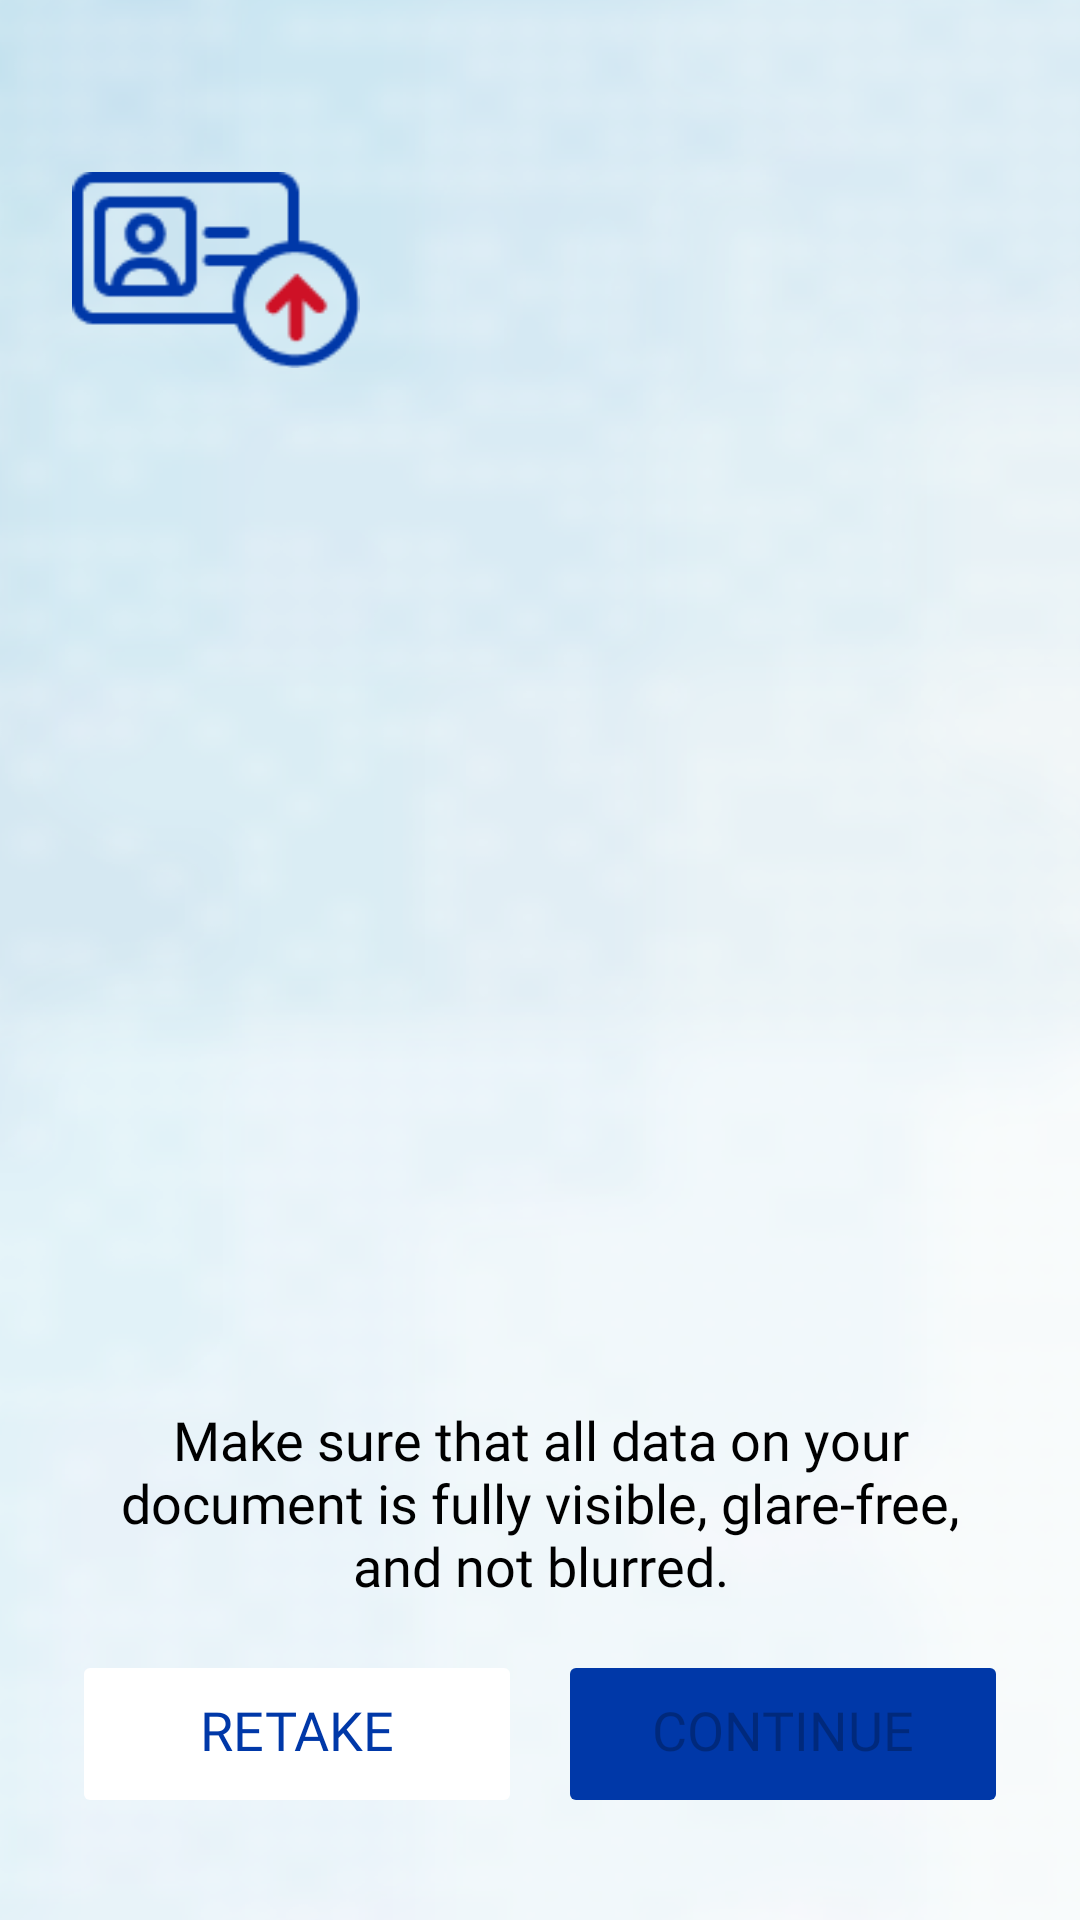

Icons on this 1080×1920 Android screen, each with its box as (x1, y1, x2, y2):
iduploadicon: (72, 172, 360, 368)
